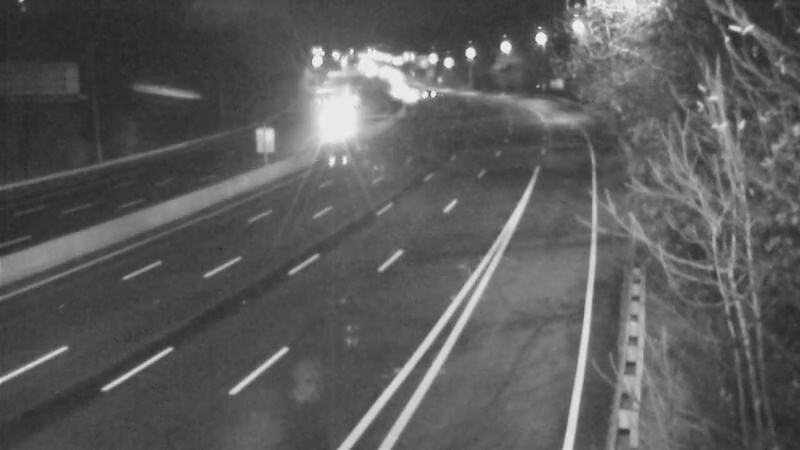vehicle: (373, 63, 423, 113), (401, 69, 451, 119), (387, 70, 437, 120), (307, 101, 357, 151)
